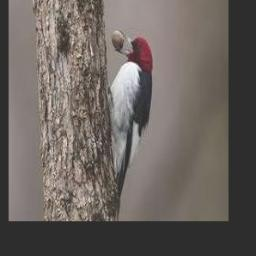Woodpecker: (108, 29, 153, 217)
